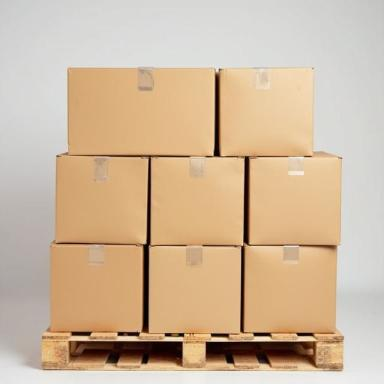pallet: (41, 324, 344, 371), (206, 341, 314, 364), (79, 342, 182, 363)
